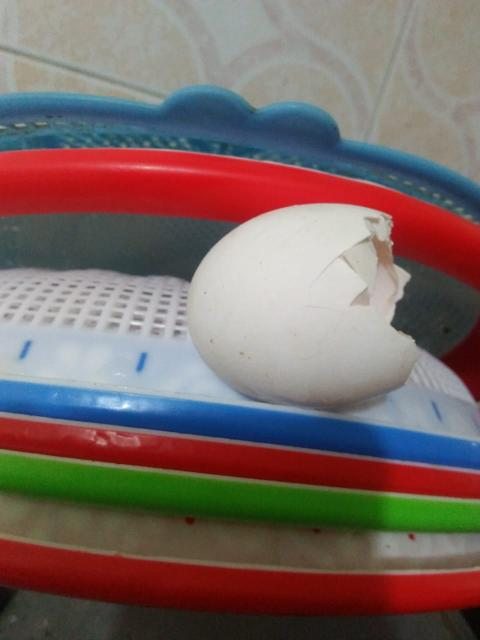Roto: (185, 201, 420, 405)
